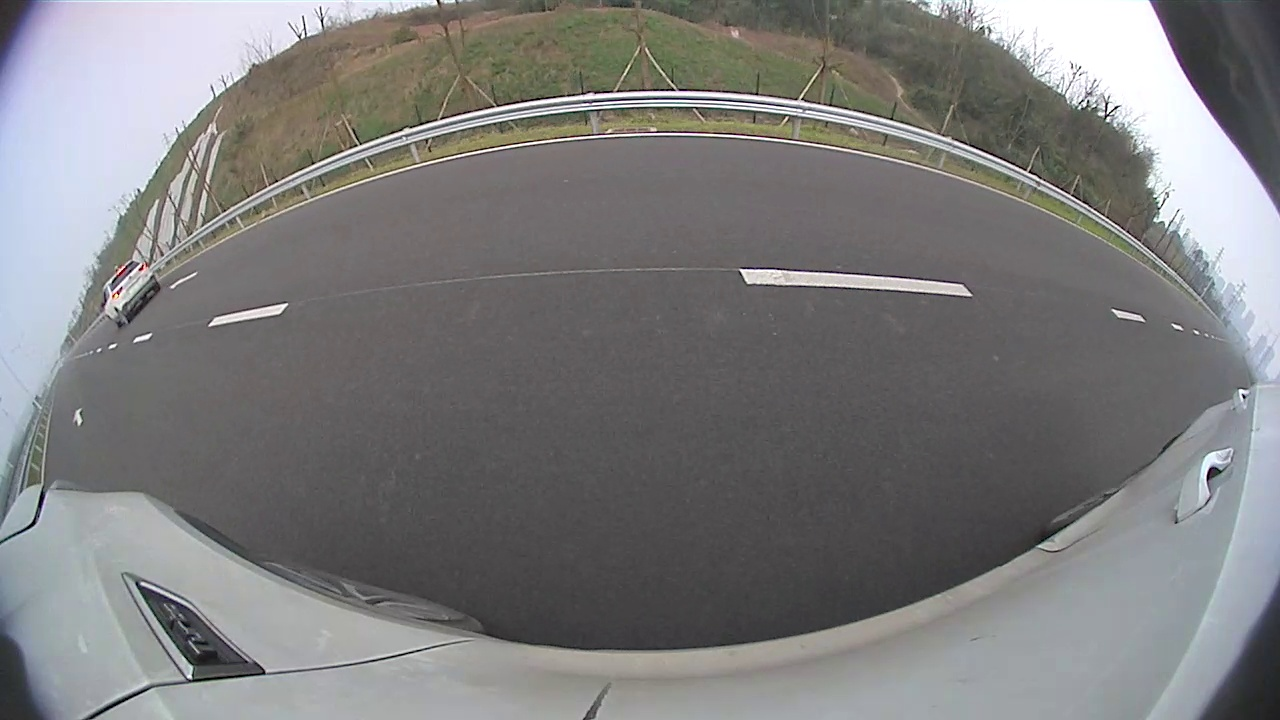car: (101, 259, 161, 327)
rear: (114, 310, 129, 326)
